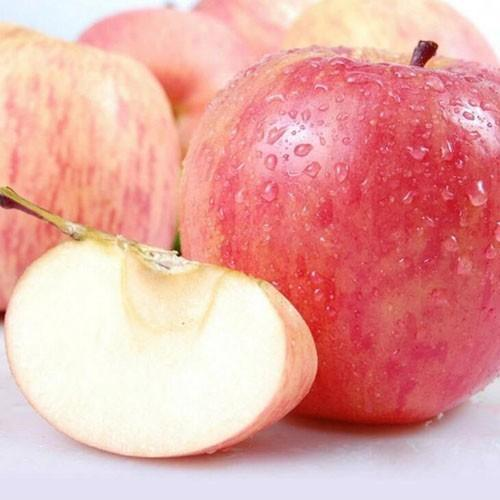apple: (180, 38, 498, 424), (1, 25, 183, 293)
